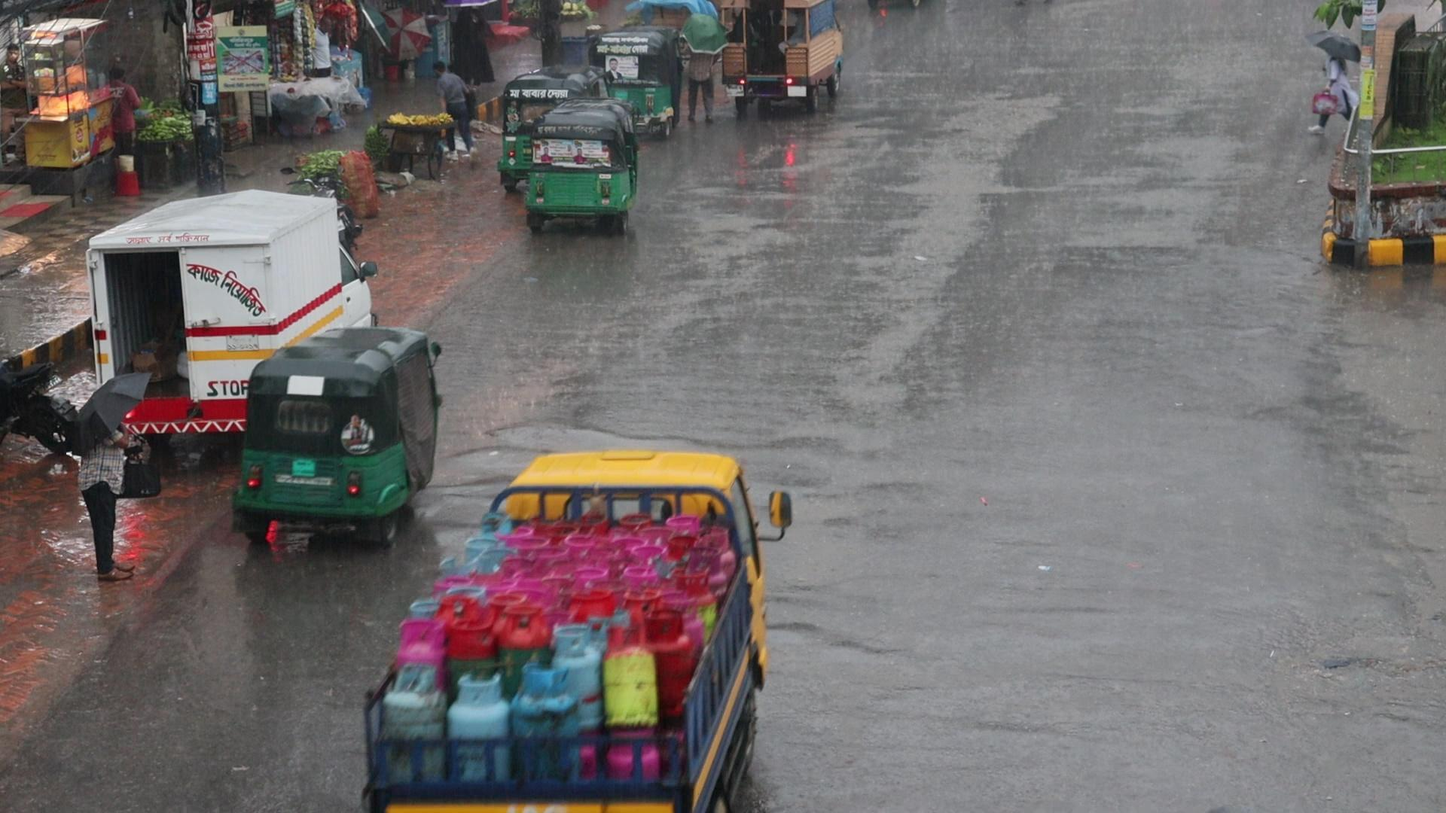Truck: (343, 445, 773, 813)
